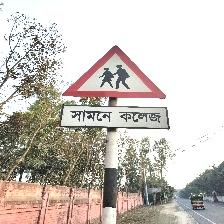College-in-front: (44, 26, 174, 143)
